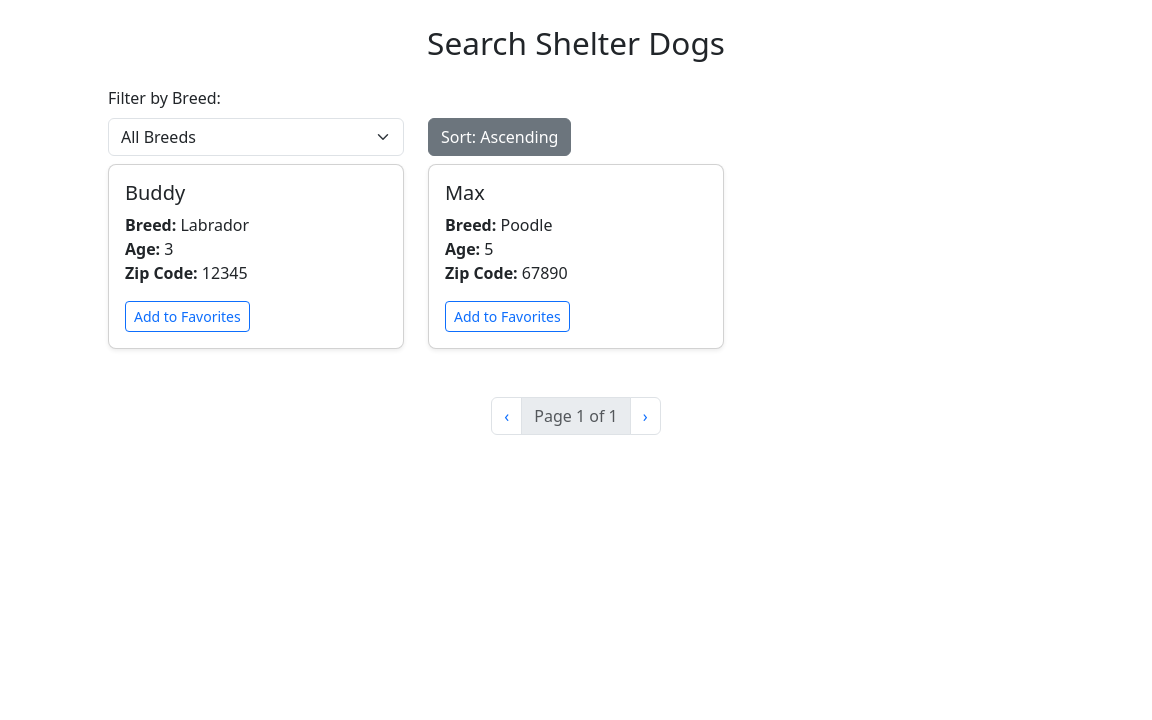
Scenario: Search Component › generates match
The image size is (1152, 720).
Expected: the text "Buddy" is shown, x1=125 y1=179 x2=185 y2=206
Click the button "Add to Favorites" below "12345" at (187, 316), box x1=125 y1=301 x2=250 y2=332
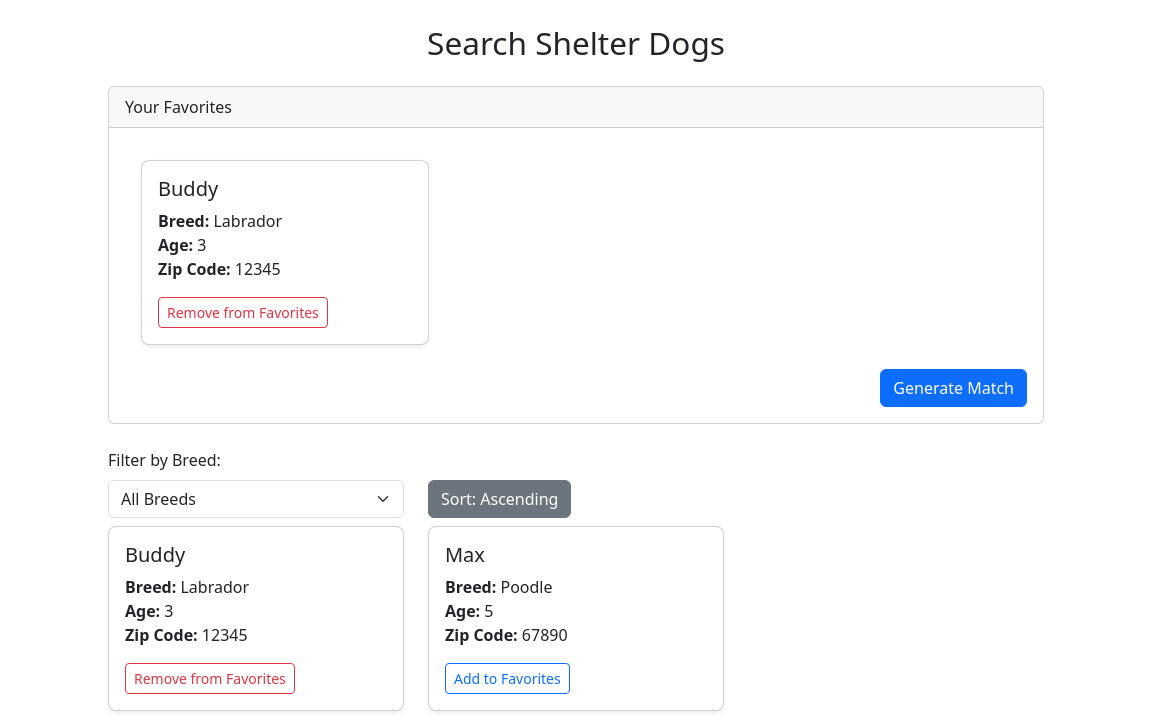
Click the button "Generate Match" at (954, 388), box x1=880 y1=369 x2=1027 y2=407
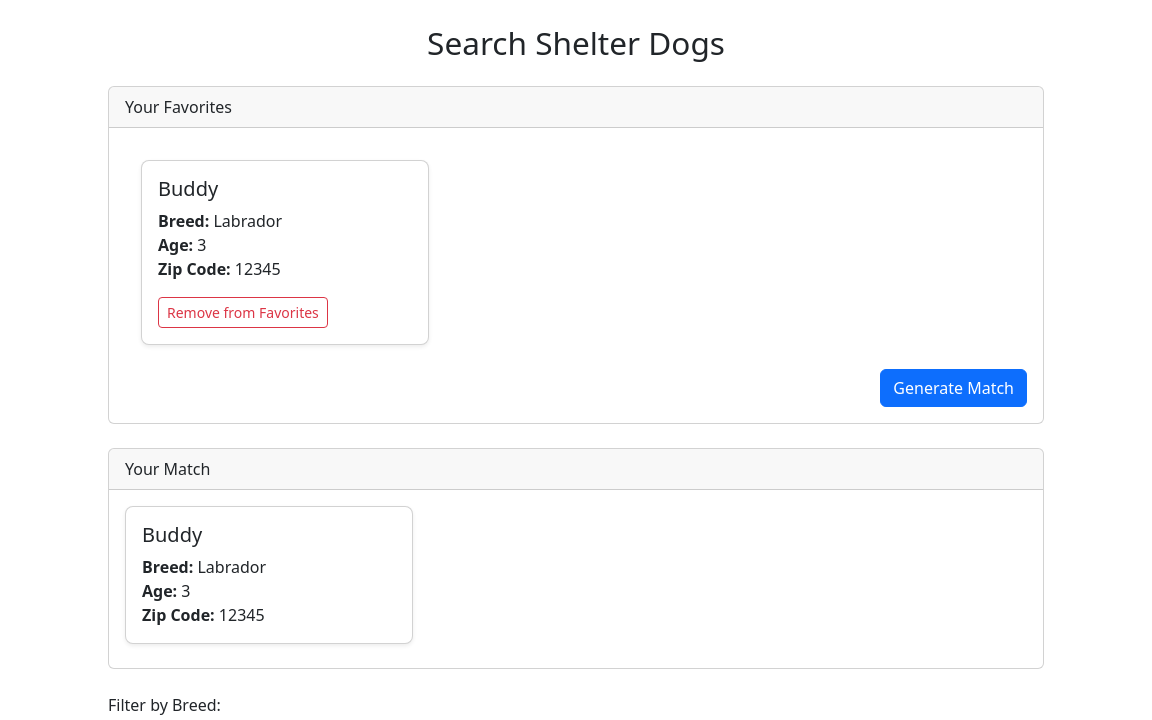
Expected: the text "Your Match" is shown, x1=109 y1=449 x2=1043 y2=490
